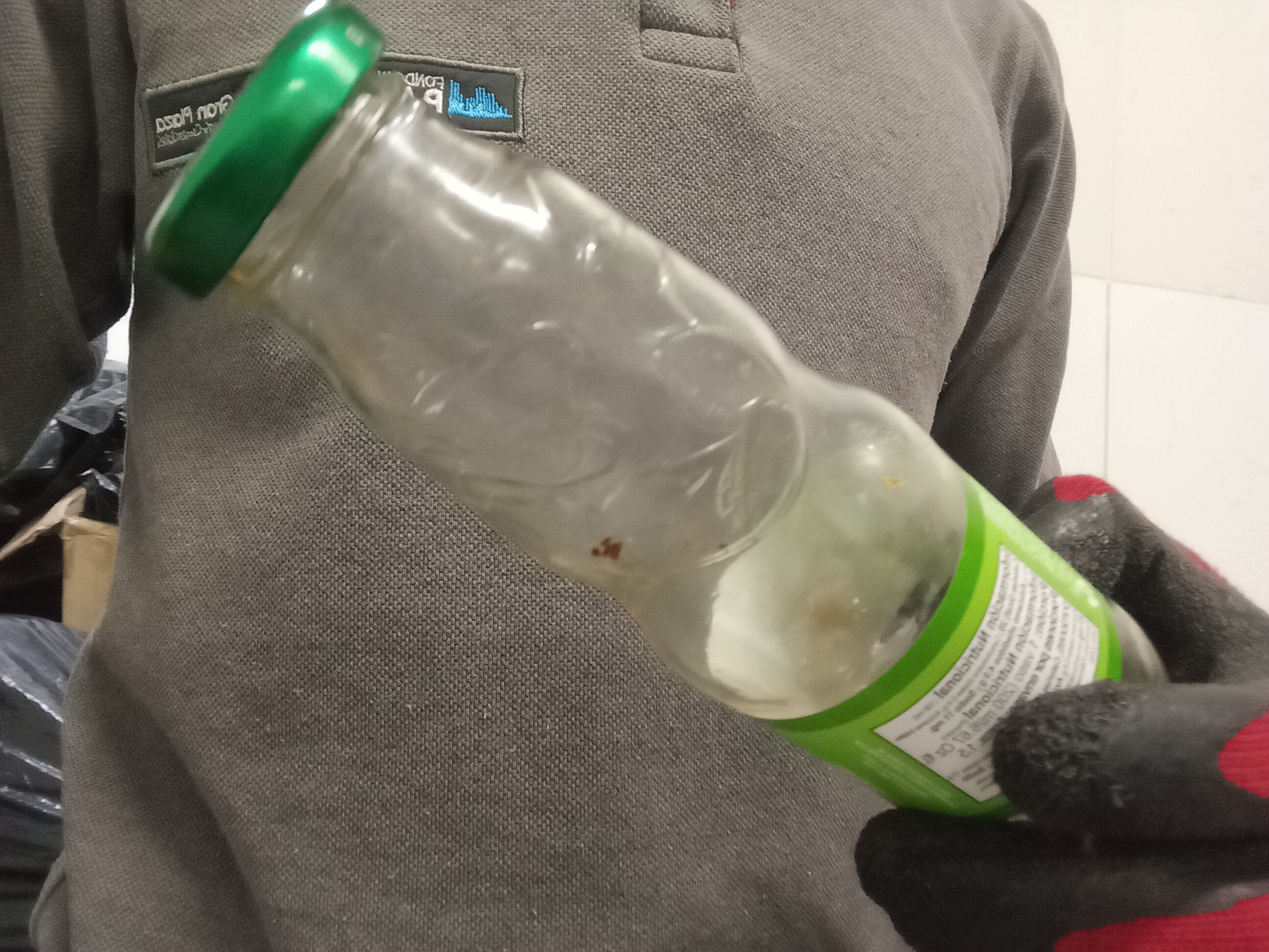Vidrio: (232, 77, 1173, 836)
